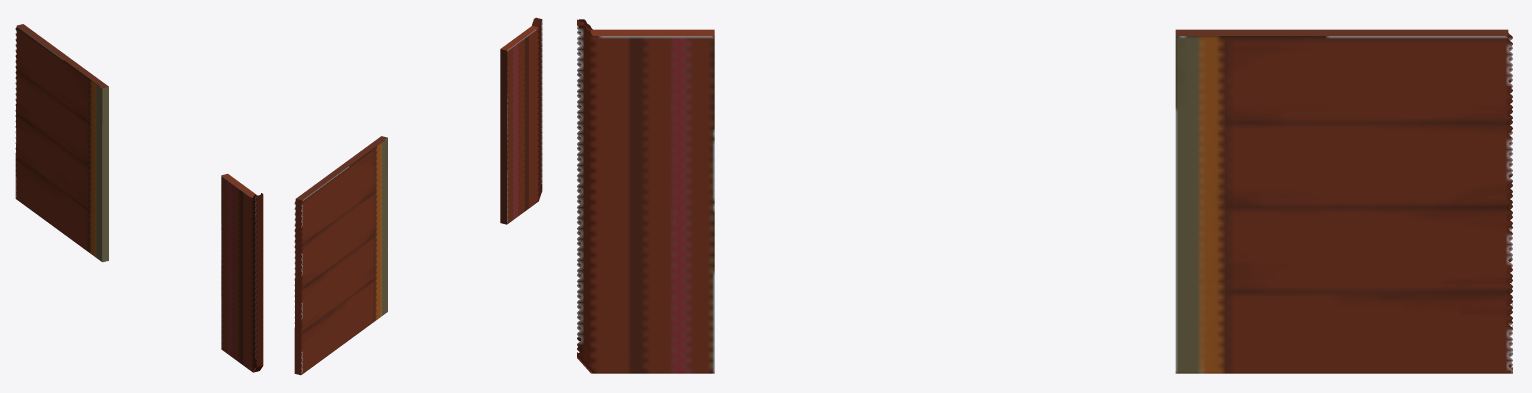
File: pz_native_location_restaurant_spiffos_01_64_frame.obj
3 views of the same model, side by side, from view 1: azimuth 30°, elevation 25°; view 2: azimuth 150°, elevation 25°; view 3: azimuth 270°, elevation 25° (orthographic). The views are drawn at different scales.
Visible parts, largest first — view 1: pz_native_location_restaurant_spiffos_01_64_frame; view 2: pz_native_location_restaurant_spiffos_01_64_frame; view 3: pz_native_location_restaurant_spiffos_01_64_frame.
Part boxes in pixels (x1,y1,x2,y2): pz_native_location_restaurant_spiffos_01_64_frame: [15, 24, 263, 372]; pz_native_location_restaurant_spiffos_01_64_frame: [294, 17, 542, 375]; pz_native_location_restaurant_spiffos_01_64_frame: [577, 19, 1512, 373].
Bounding box in the file's own units: 0.04 × 1.06 × 2.54.
Materials: 1 (1 with a texture image).
